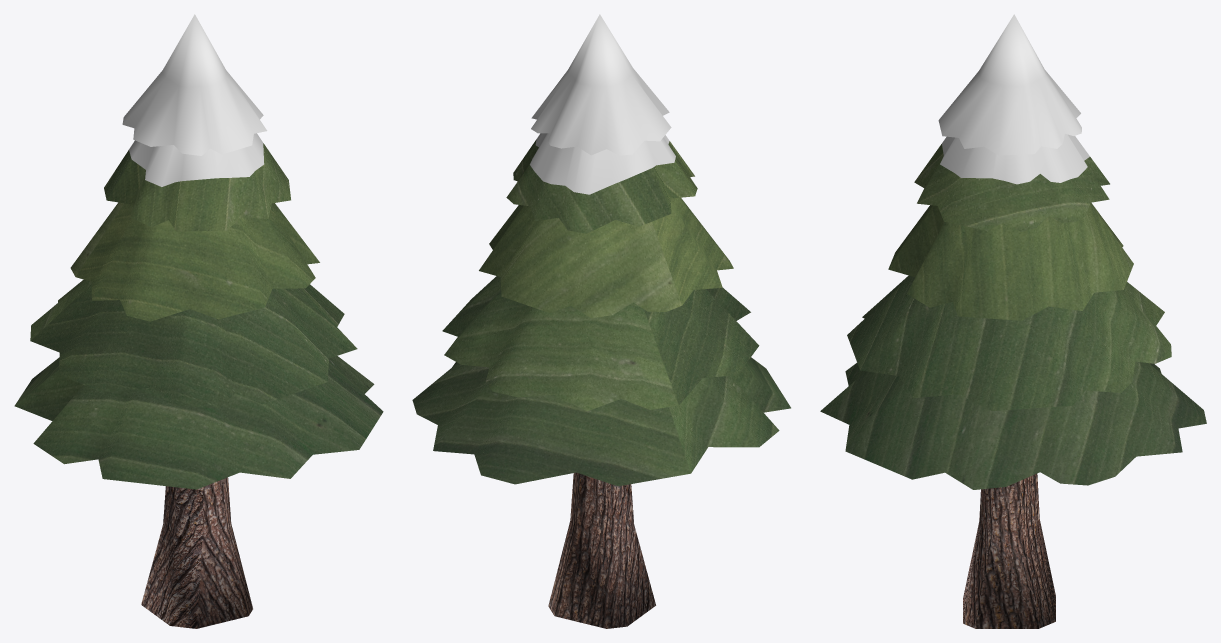
The model's file is tree1_baking.fbx.
3 renders of one model, left to right at view 1: azimuth 30°, elevation 25°; view 2: azimuth 150°, elevation 25°; view 3: azimuth 270°, elevation 25°, orthographic.
Visible parts, largest first — view 1: leaf_baking, wood_baking, Circle.004, Circle.005; view 2: leaf_baking, wood_baking, Circle.004, Circle.005; view 3: leaf_baking, Circle.004, wood_baking, Circle.005.
Part boxes in pixels (<box>): leaf_baking: <box>14,143,383,489</box>; wood_baking: <box>141,477,252,628</box>; Circle.004: <box>122,14,267,155</box>; Circle.005: <box>129,133,264,186</box>; leaf_baking: <box>412,140,790,486</box>; wood_baking: <box>548,472,655,628</box>; Circle.004: <box>531,14,671,155</box>; Circle.005: <box>530,133,675,194</box>; leaf_baking: <box>820,144,1206,489</box>; Circle.004: <box>938,14,1081,155</box>; wood_baking: <box>963,473,1055,628</box>; Circle.005: <box>940,133,1089,184</box>.
Size of the model in its own units: 377 by 665 by 392.
